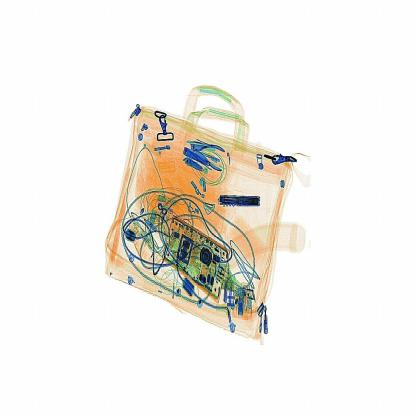scissors: (218, 192, 267, 211)
